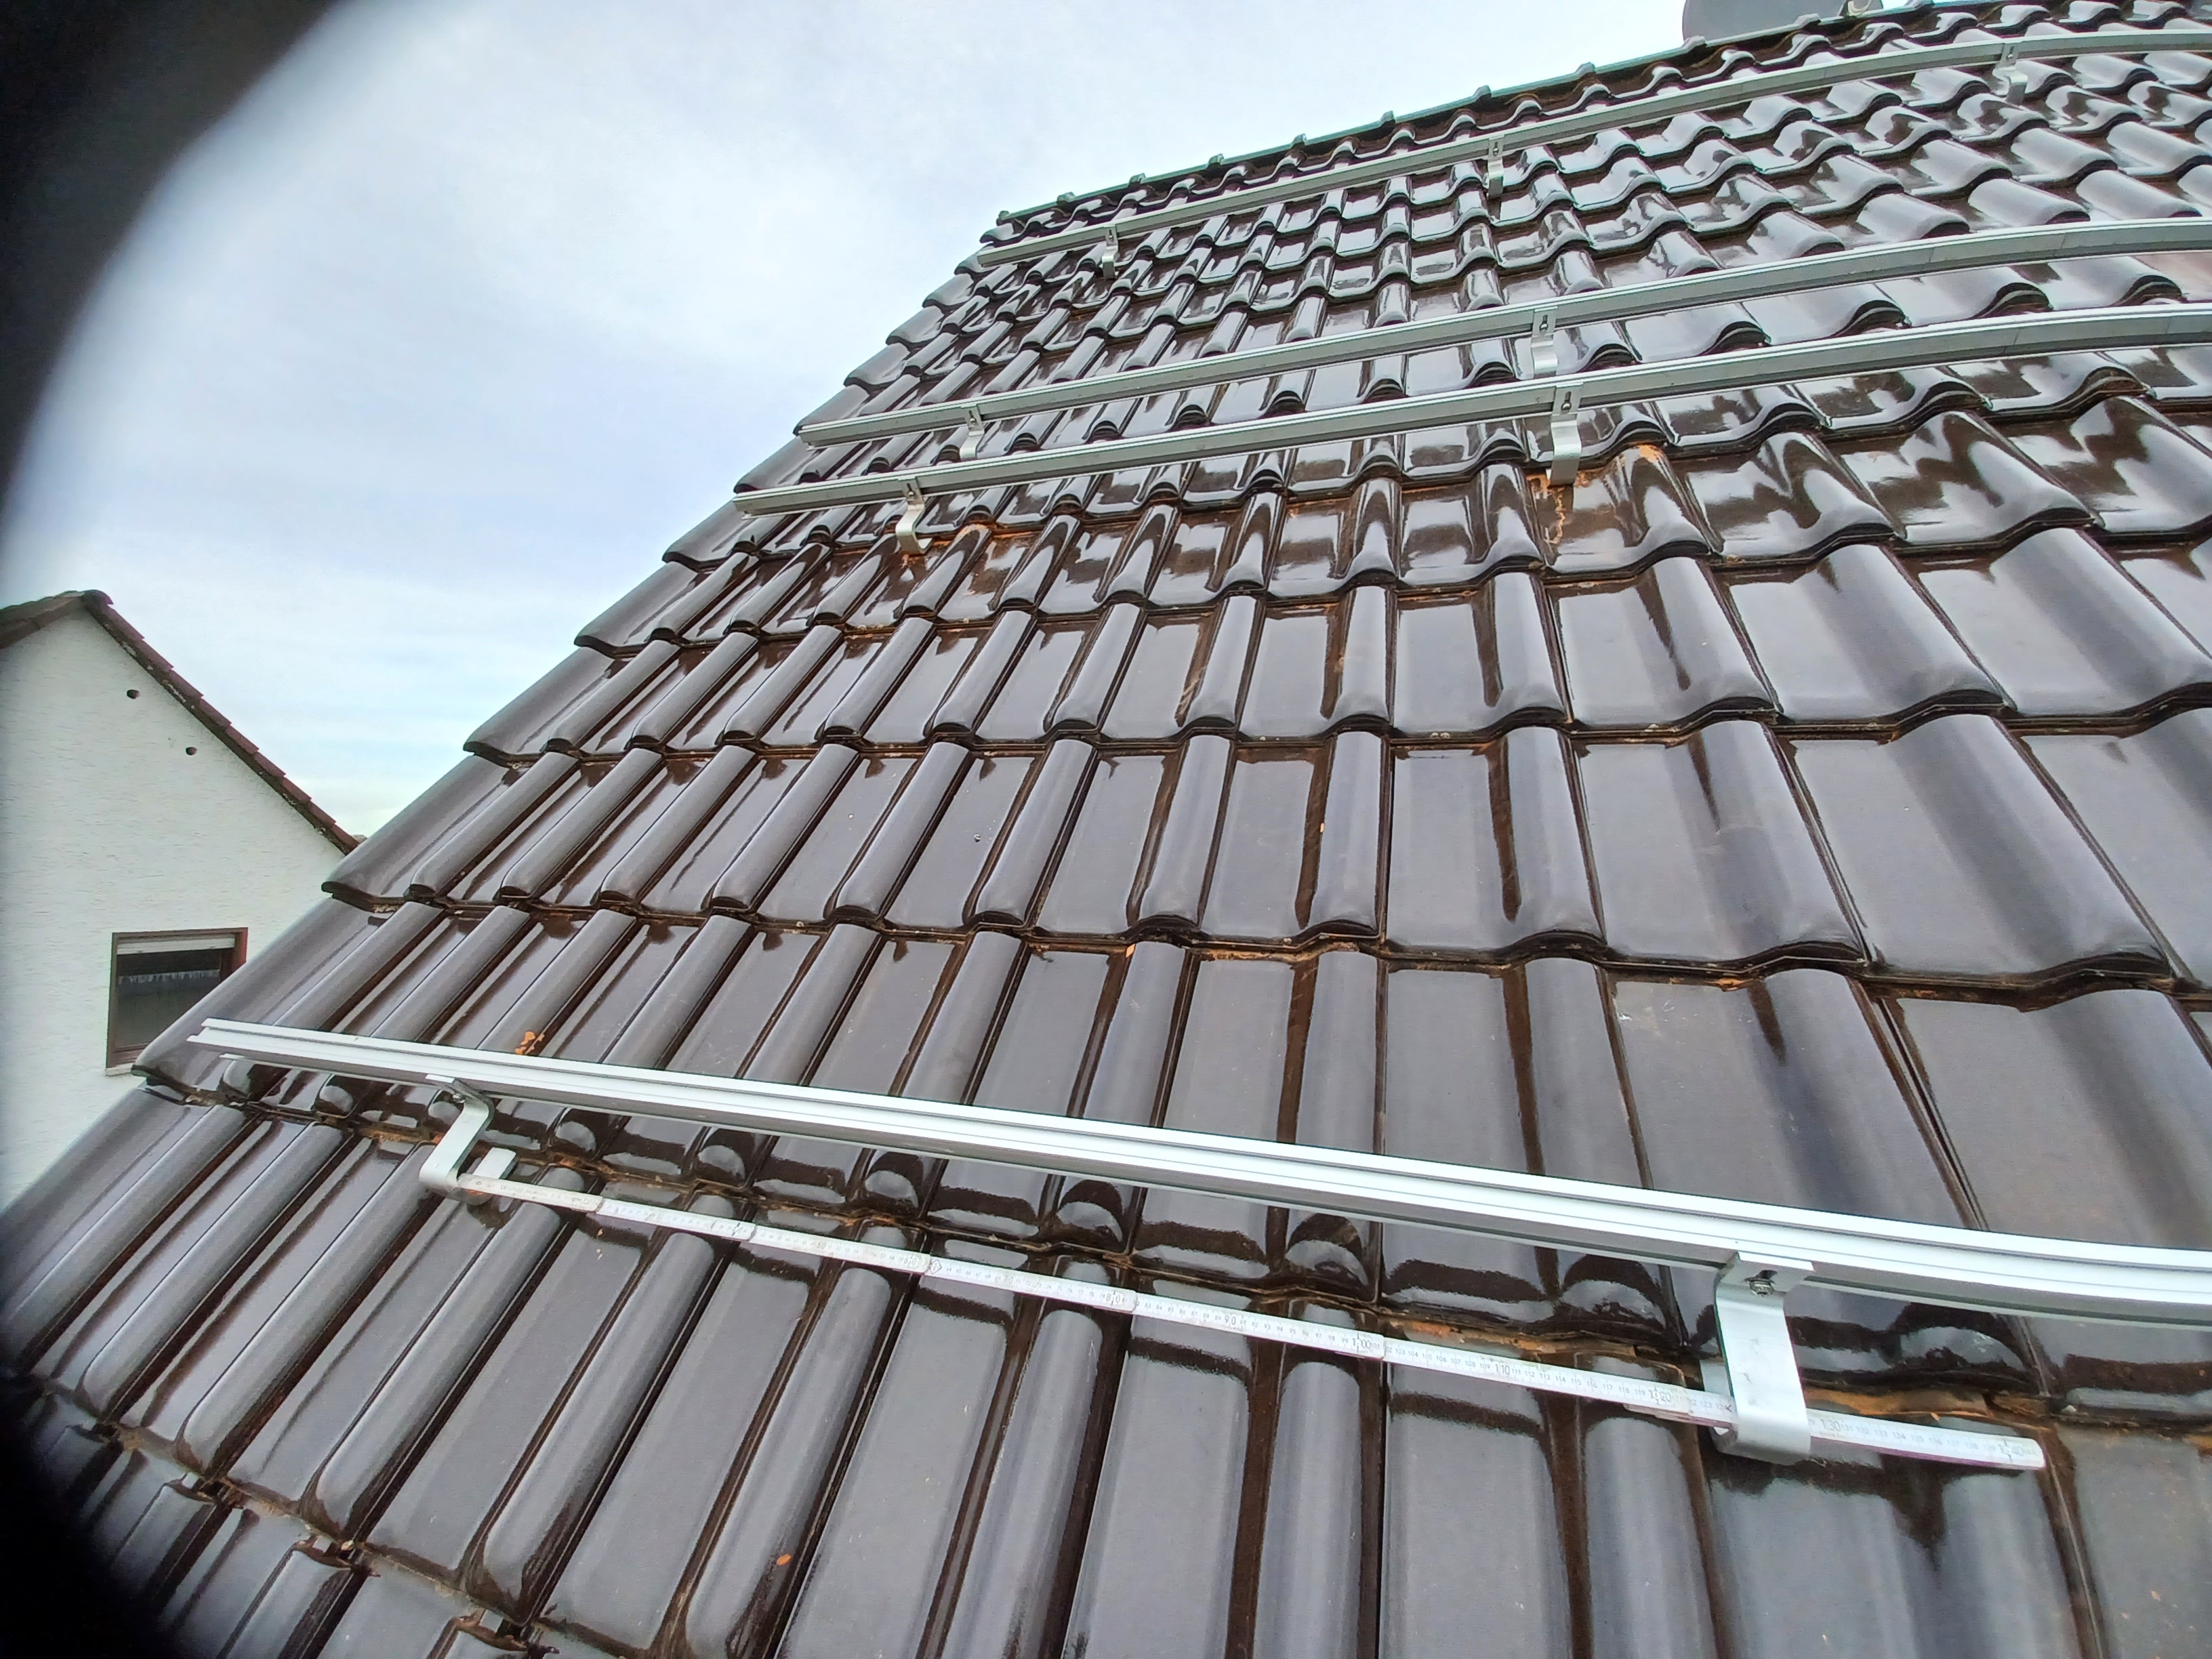hook: (1700, 1251, 1815, 1467), (418, 1073, 519, 1204), (1545, 383, 1583, 486), (895, 476, 934, 554), (1531, 305, 1559, 378), (1998, 42, 2027, 105), (960, 403, 984, 460), (1486, 134, 1503, 199), (1101, 225, 1120, 279)
